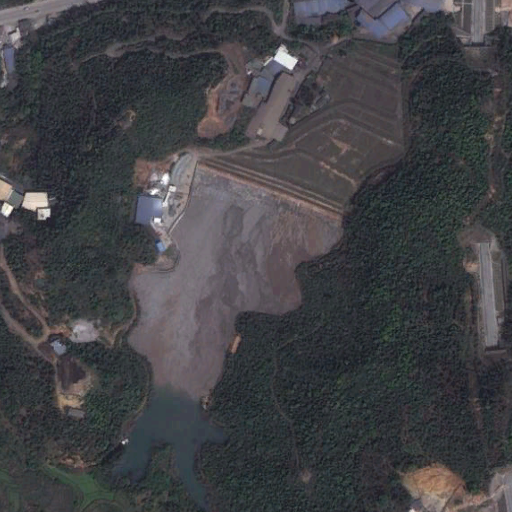tp: (99, 153, 351, 491)
